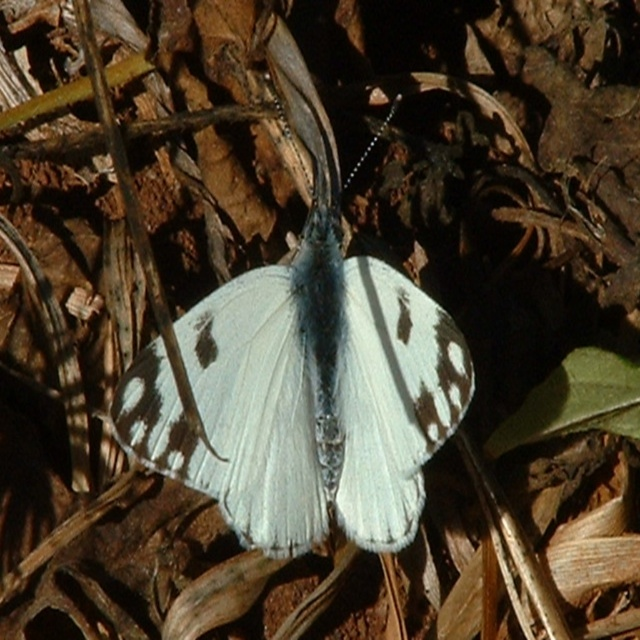Moths and butterflies: (106, 77, 478, 564)
